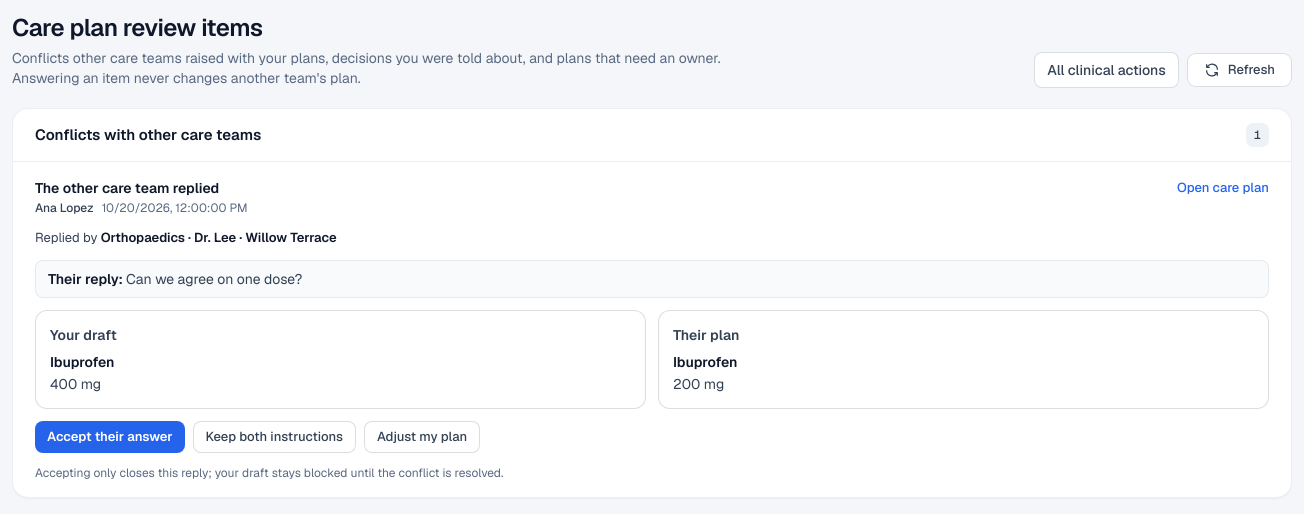
Test case: care plan review items › lets the asker accept a reply and says the blocker remains when it does
This screenshot has width=1304, height=514.
Step 1. Click the button "Accept their answer" → (110, 436), box left=35, top=420, right=185, bottom=452
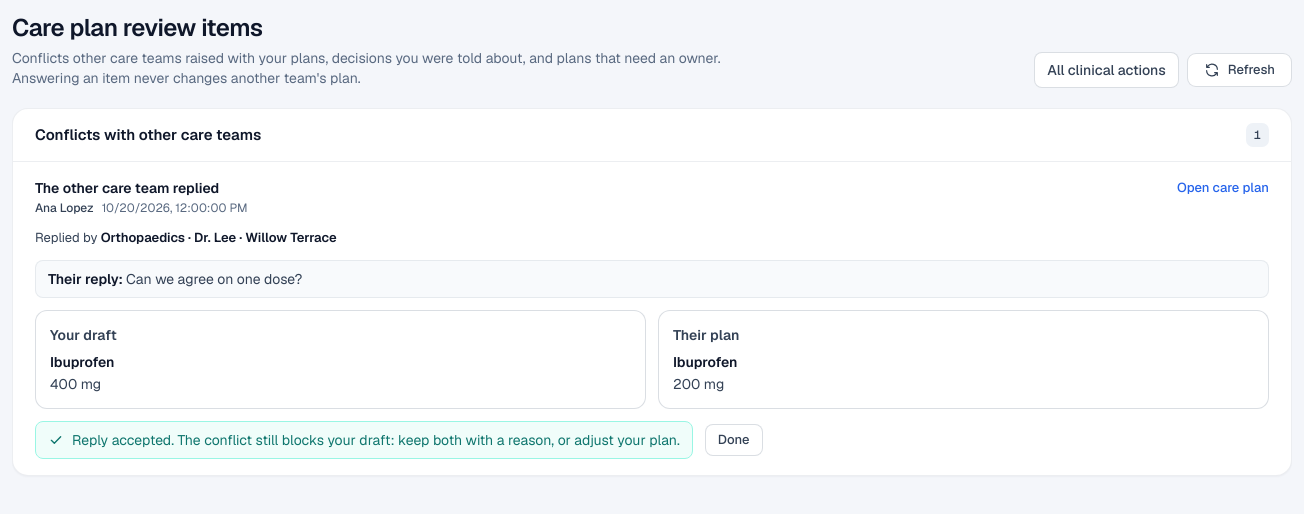
Result: the text "still blocks your draft" is shown at left=72, top=430, right=680, bottom=448
